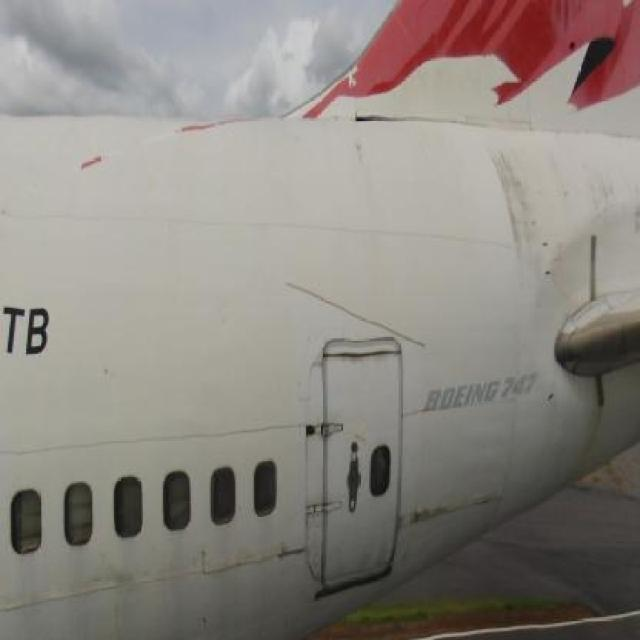Rust: (488, 129, 552, 268), (578, 138, 640, 252), (394, 497, 508, 529), (581, 375, 617, 474), (328, 339, 404, 375), (358, 537, 393, 578)
Scartch: (98, 562, 150, 638), (253, 542, 310, 570)
